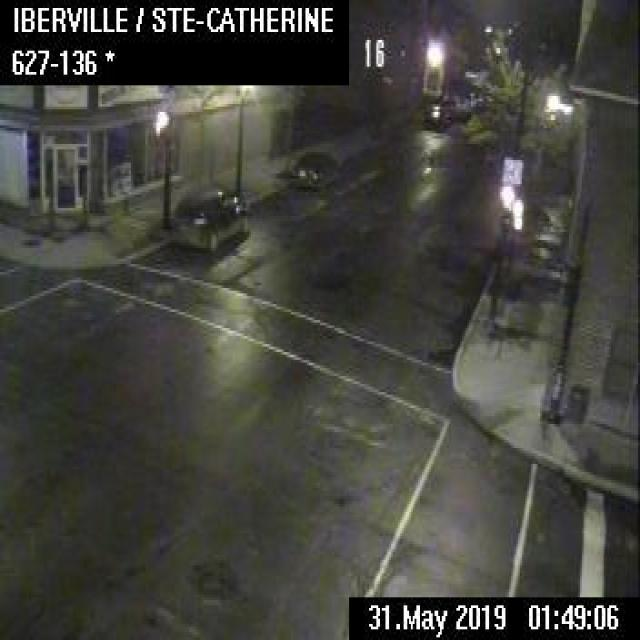vehicle: (168, 184, 245, 251), (291, 149, 349, 192), (416, 96, 449, 128)
